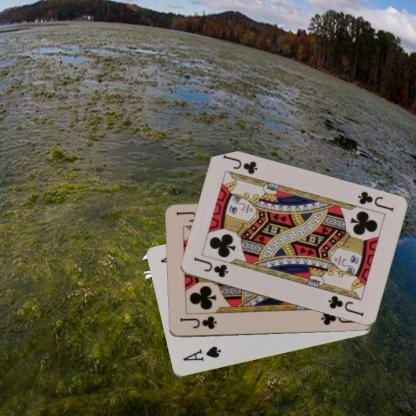As: (180, 344, 222, 363)
Jc: (355, 188, 396, 214), (191, 255, 229, 279), (177, 314, 218, 331)
